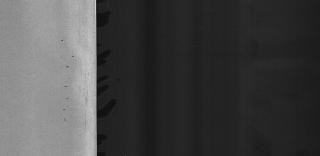oil spot: (64, 58, 72, 72), (59, 104, 69, 114), (61, 84, 71, 91), (58, 117, 68, 123), (60, 36, 68, 42)
